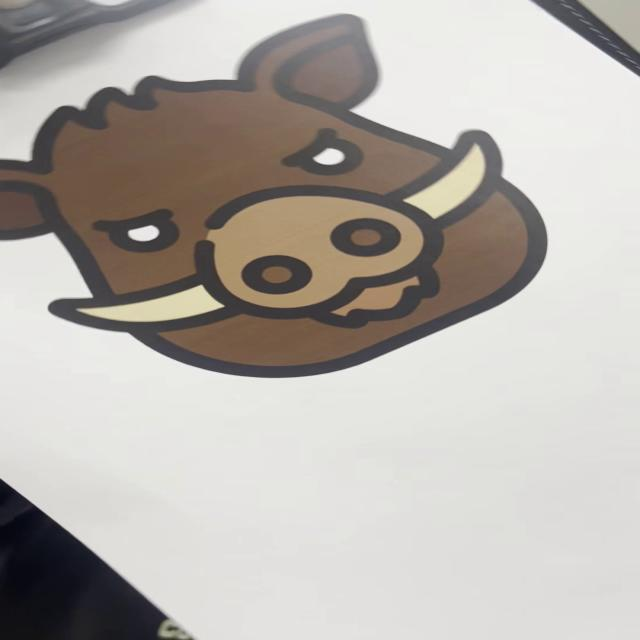animal: (11, 14, 570, 383)
